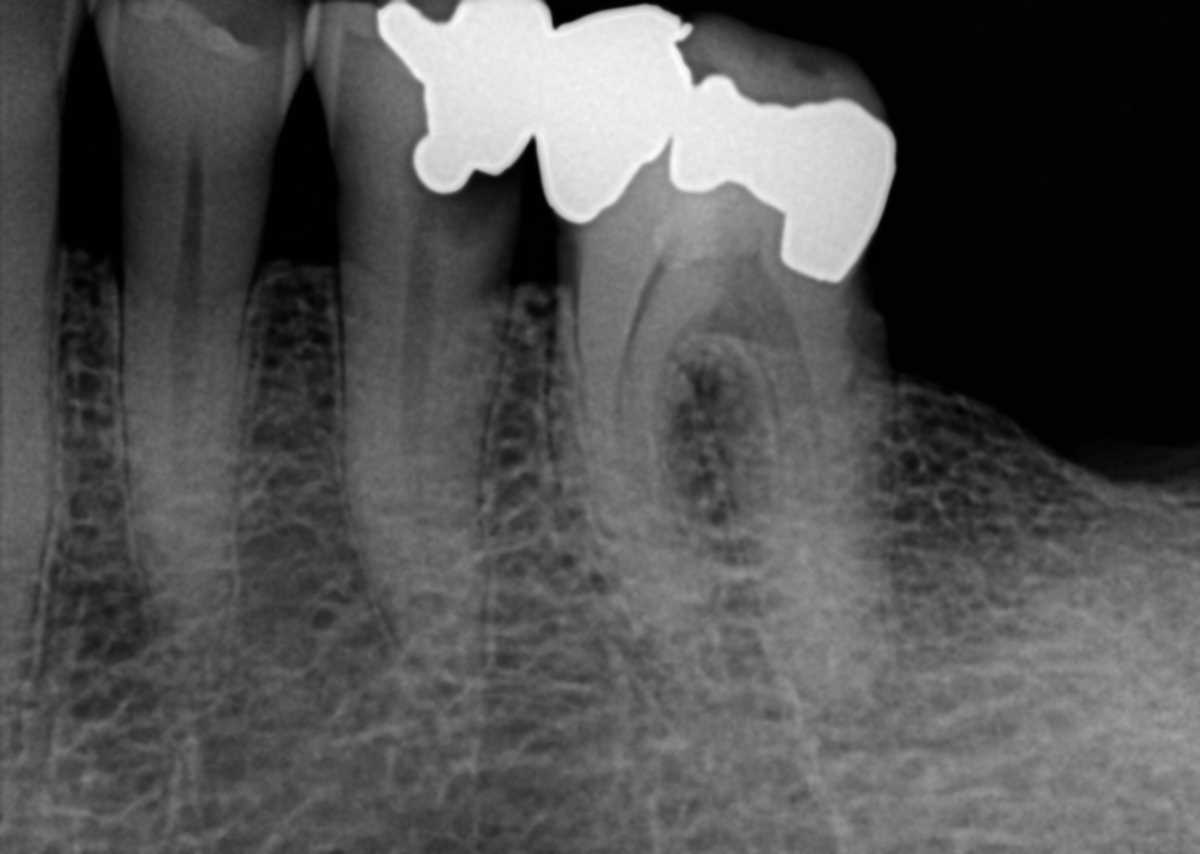Distal Canal: (751, 343, 826, 501)
Distal Root: (696, 348, 902, 709)
Main Canal: (406, 282, 460, 672), (172, 251, 201, 631)
Main Root: (336, 268, 515, 690), (119, 241, 257, 635), (0, 248, 58, 702)
Mesial Canal: (617, 266, 667, 483)
Mesial Root: (545, 289, 710, 620)
decay: (444, 152, 522, 252), (839, 274, 896, 394)
